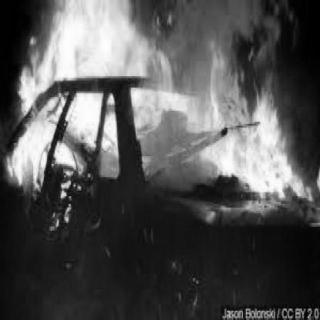Fire: (1, 0, 318, 221)
